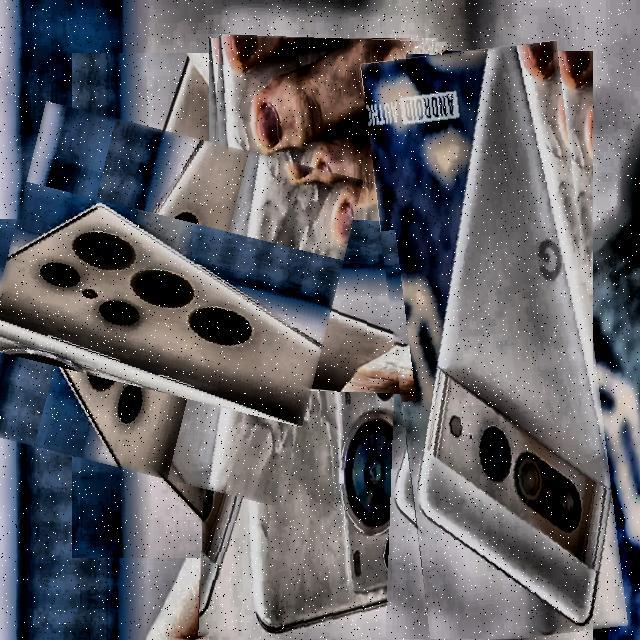Phone: (203, 35, 443, 640), (377, 45, 610, 640), (0, 118, 345, 491)
